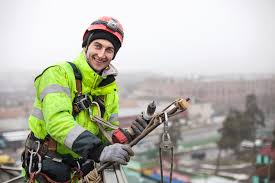Helmet: (92, 9, 132, 59)
Jacket: (35, 60, 105, 166)
gloves: (98, 141, 137, 169)
